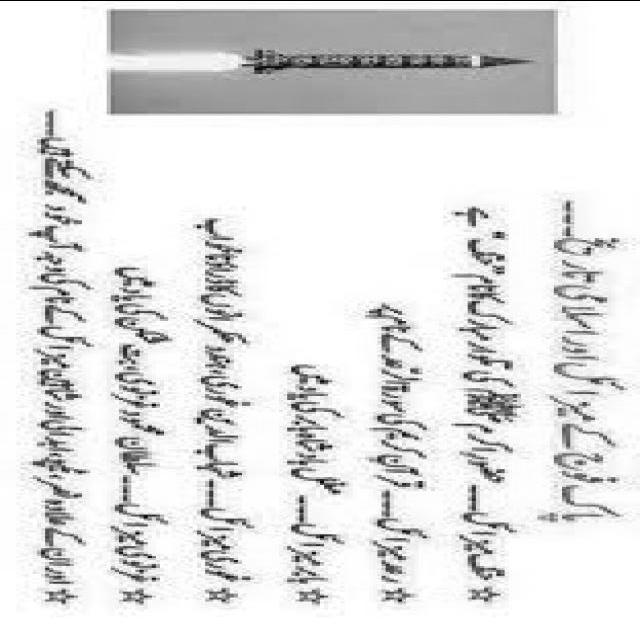missile: (242, 47, 533, 76)
